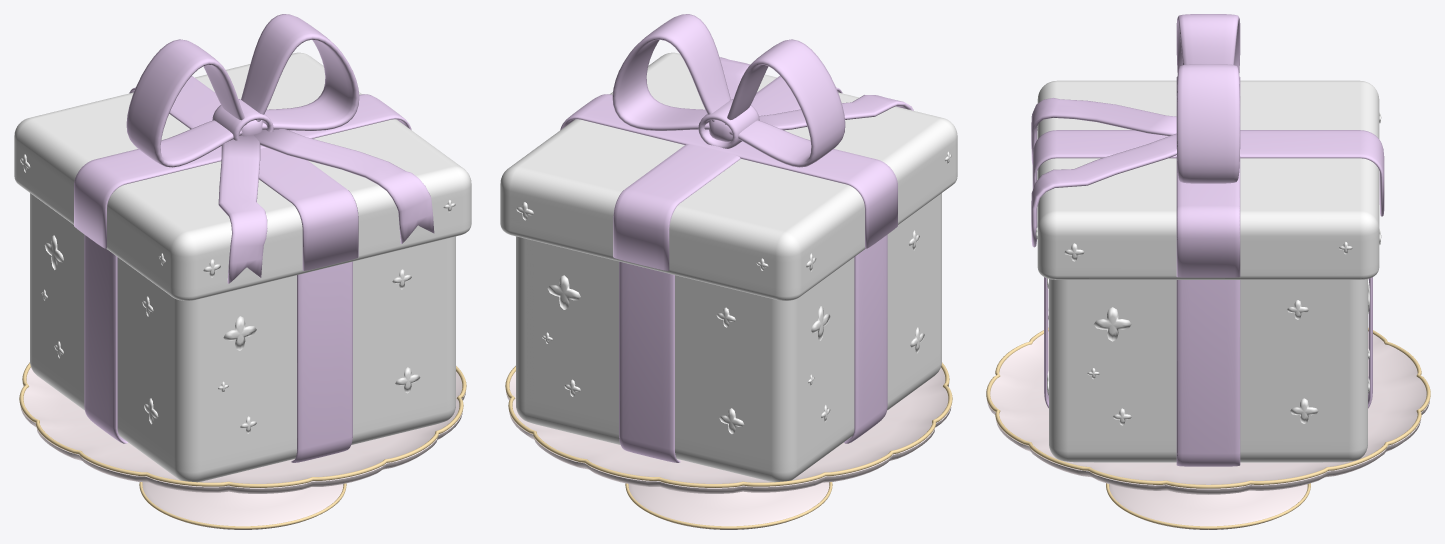
Rendered from decor.glb.
3 views of the same model, side by side, from view 1: azimuth 30°, elevation 25°; view 2: azimuth 150°, elevation 25°; view 3: azimuth 270°, elevation 25° (orthographic).
Parts seen in each view (by area): view 1: DreamGift_Body, DreamGift_LidRibbon, DreamGift_LidBox, Stand_Body, DreamGift_BodyRibbon, Stand_Rim, DreamGift_BodyStars, Stand_Foot; view 2: DreamGift_Body, DreamGift_LidBox, DreamGift_LidRibbon, Stand_Body, DreamGift_BodyRibbon, Stand_Rim, DreamGift_BodyStars, Stand_Foot; view 3: DreamGift_Body, DreamGift_LidBox, DreamGift_LidRibbon, Stand_Body, DreamGift_BodyRibbon, Stand_Rim, DreamGift_BodyStars, Stand_Foot.
Boxes of the visible parts, x1,y1,x2,y2 form: DreamGift_Body: (30,193,455,482); DreamGift_LidRibbon: (74,14,434,283); DreamGift_LidBox: (14,52,471,300); Stand_Body: (20,367,465,529); DreamGift_BodyRibbon: (84,234,352,462); Stand_Rim: (19,362,466,487); DreamGift_BodyStars: (41,235,420,433); Stand_Foot: (139,482,346,529); DreamGift_Body: (516,193,941,482); DreamGift_LidBox: (500,52,957,300); DreamGift_LidRibbon: (560,14,913,270); Stand_Body: (506,367,951,529); DreamGift_BodyRibbon: (619,234,887,462); Stand_Rim: (505,362,952,487); DreamGift_BodyStars: (542,230,924,433); Stand_Foot: (625,482,832,529); DreamGift_Body: (1049,279,1367,462); DreamGift_LidBox: (1037,80,1379,279); DreamGift_LidRibbon: (1031,14,1384,277); Stand_Body: (986,331,1430,529); DreamGift_BodyRibbon: (1044,277,1372,466); Stand_Rim: (986,327,1430,488); DreamGift_BodyStars: (1047,278,1369,425); Stand_Foot: (1106,483,1310,529).
Bounding box in the file's own units: 1.39 × 1.54 × 1.39.
